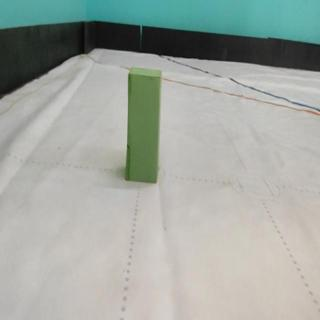greenbox: (123, 63, 166, 186)
